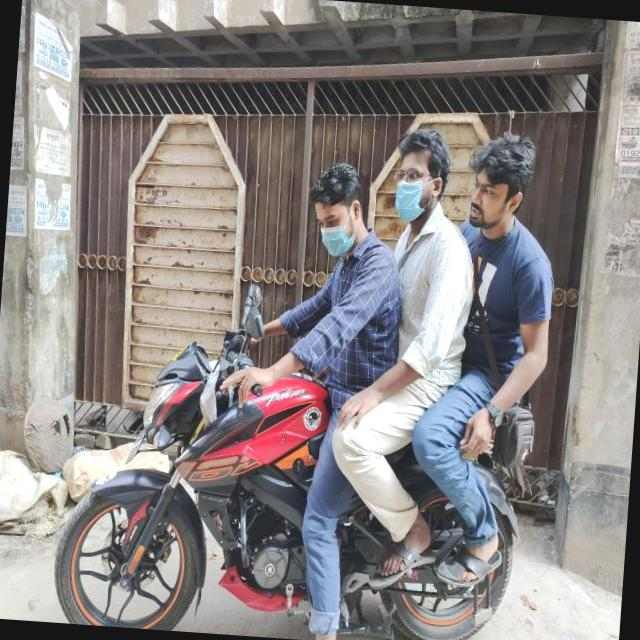motorcycle: (47, 317, 534, 640)
person: (253, 157, 419, 640), (322, 115, 484, 586), (424, 105, 573, 586)
rider_region: (48, 90, 555, 640)
